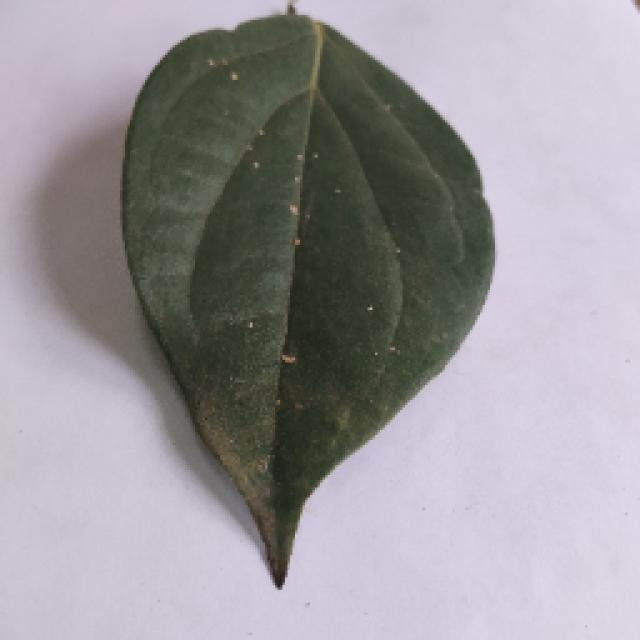pollu-disease: (120, 13, 492, 585)
